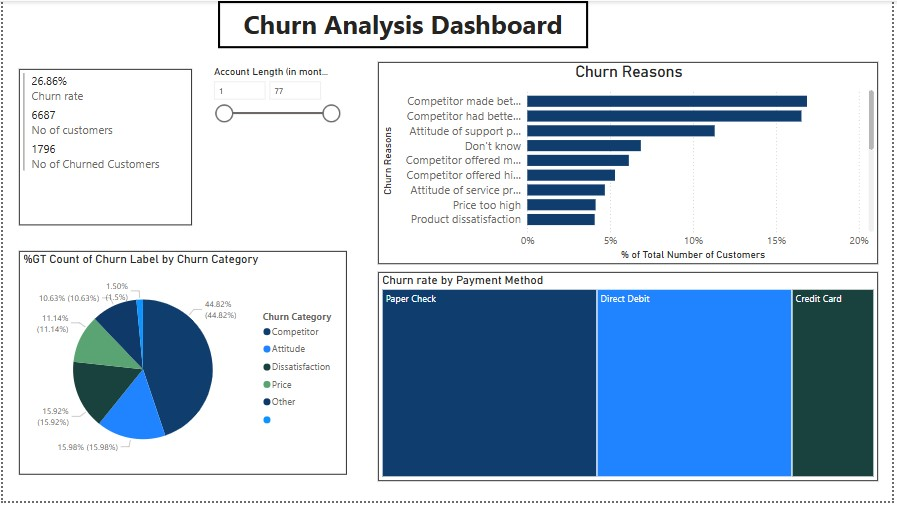

Layout of this report page (visuals, bound fields, positions):
{"tool":"powerbi","page":{"name":"Overview","canvas":[1280,720],"ordinal":0},"visuals":[{"type":"textbox","box":[309.3,0,532.7,67.9],"z":0},{"type":"multiRowCard","fields":{"Values":["MeasureTable.Churn rate","MeasureTable.No of customers","MeasureTable.No of Churned Customers"]},"box":[23,97.9,249.1,224.6],"z":1000},{"type":"clusteredBarChart","title":"Churn Reasons","fields":{"Category":["Databel - Data.Churn Reason"],"Y":["CountNonNull(Databel - Data.Number of Customers in Group)"]},"box":[539.9,87.6,720.4,291.4],"z":2000},{"type":"pieChart","fields":{"Category":["Databel - Data.Churn Category"],"Y":["CountNonNull(Databel - Data.Churn Label)"]},"box":[23.2,359.3,472,321.8],"z":3000},{"type":"treemap","fields":{"Group":["Databel - Data.Payment Method"],"Values":["MeasureTable.Churn rate"]},"box":[540,390.2,720,301],"z":4000},{"type":"slicer","fields":{"Values":["Databel - Data.Account Length (in months)"]},"box":[291.4,87.6,203.8,236],"z":5001}]}

Visuals, with their boxes in screenshot pixels (x1, y1, x2, y2), scaled from the page's 1280x720 canvas onto the 897x509 screenshot:
textbox: locate(217, 0, 590, 48)
multiRowCard - MeasureTable.Churn rate x MeasureTable.No of customers: locate(16, 69, 191, 228)
"Churn Reasons" clusteredBarChart: locate(378, 62, 883, 268)
pieChart - Databel - Data.Churn Category x CountNonNull(Databel - Data.Churn Label): locate(16, 254, 347, 481)
treemap - Databel - Data.Payment Method x MeasureTable.Churn rate: locate(378, 276, 883, 489)
slicer - Databel - Data.Account Length (in months): locate(204, 62, 347, 229)
